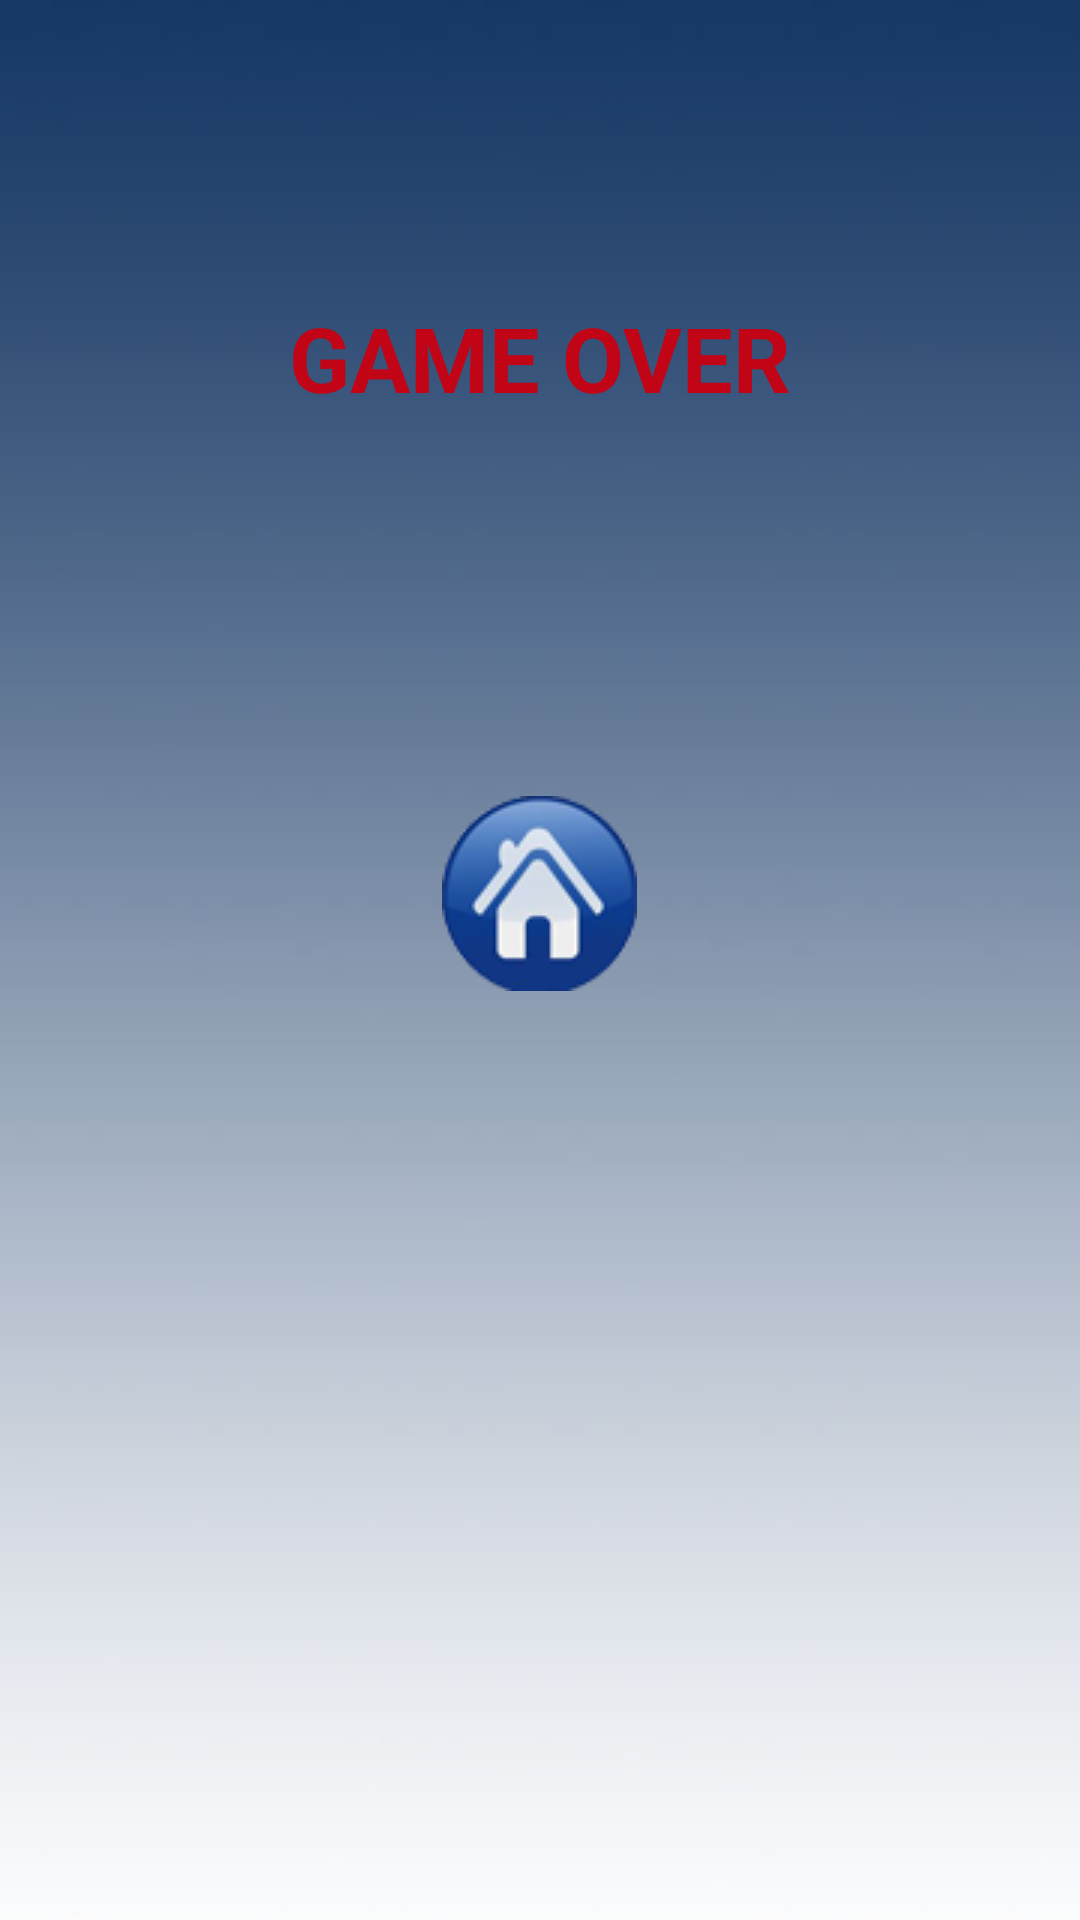

Named icons in this screenshot (1080px×1920px) and their bounding boxes, bbox=[x1, y1, x2, y2]:
home: bbox=[442, 796, 637, 991]
